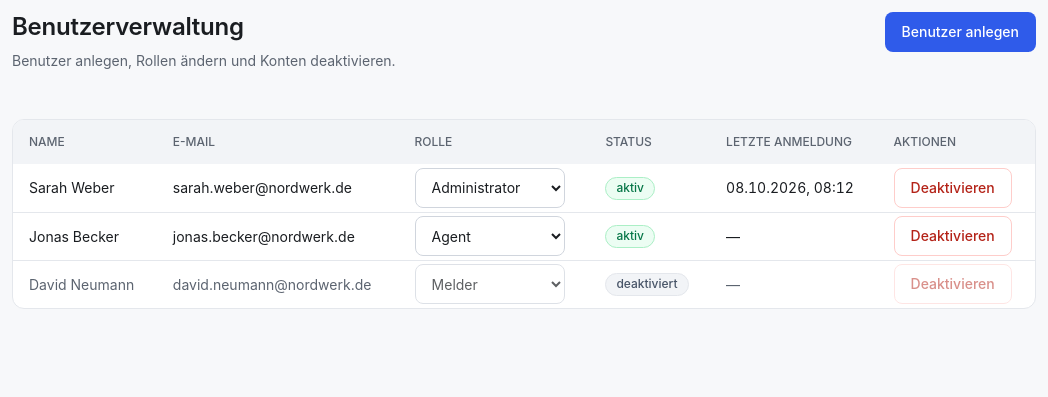
Test: UsersPage › changes a role via the row select
Expected: the text "Jonas Becker" is shown, [13,212,157,260]
Select "Administrator" in the dropdown named "Rolle von Jonas Becker" at (490, 236), box [415,216,565,256]
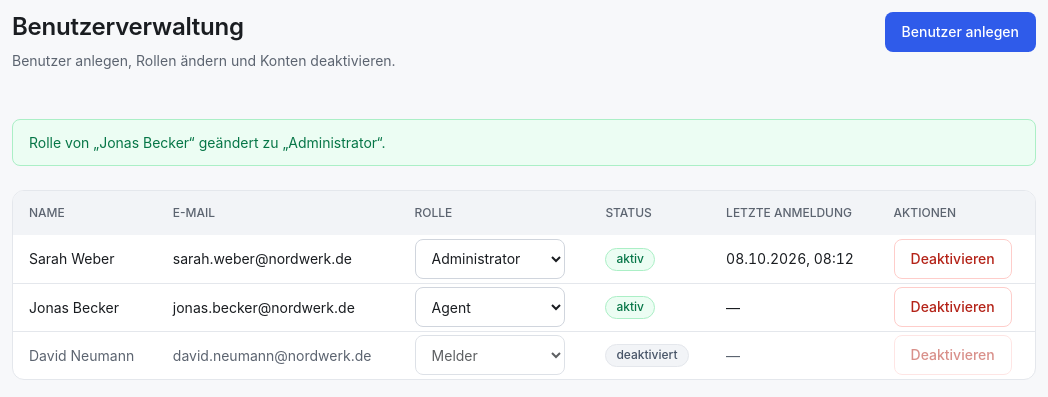
Expected: the text "Rolle von „Jonas Becker“ geändert zu „Administrator“." is shown, [12,119,1036,166]
